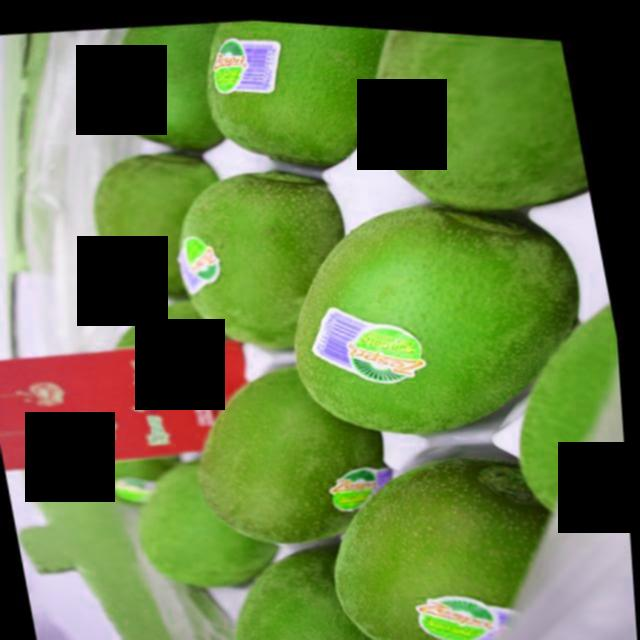kiwi: (269, 179, 604, 454), (326, 430, 564, 640), (344, 22, 596, 217), (184, 348, 370, 563), (161, 162, 354, 367), (194, 14, 403, 176), (497, 284, 632, 513), (65, 137, 243, 306), (100, 434, 242, 609), (85, 14, 250, 155)
